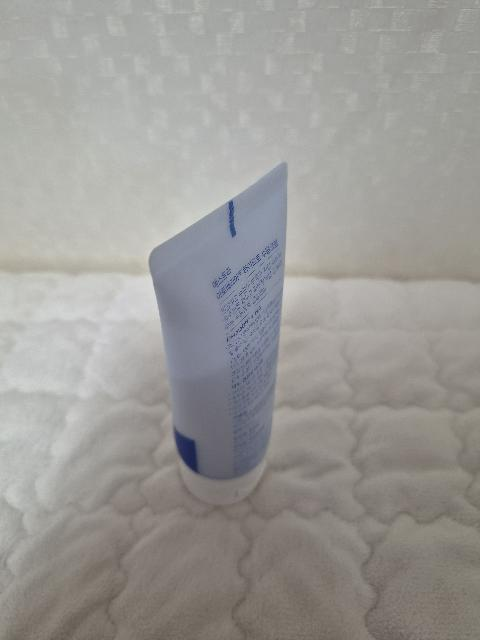handcream: (148, 161, 288, 505)
